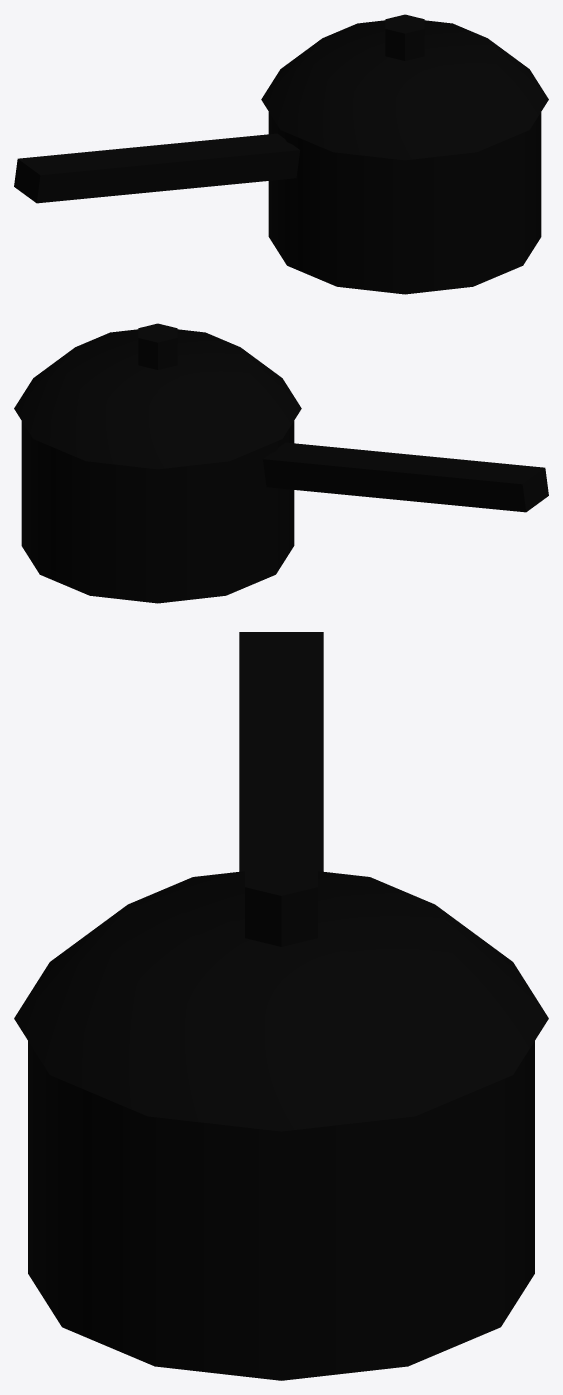
Rendered from SM_saucepan_copper.fbx.
3 renders of one model, top to bottom at view 1: azimuth 30°, elevation 25°; view 2: azimuth 150°, elevation 25°; view 3: azimuth 270°, elevation 25°, orthographic. The views are drawn at different scales.
Parts seen in each view (by area): view 1: saucepan_copper, saucepan_copper_lid; view 2: saucepan_copper, saucepan_copper_lid; view 3: saucepan_copper, saucepan_copper_lid.
Boxes of the visible parts, x1,y1,x2,y2 form: saucepan_copper: (14, 112, 541, 294); saucepan_copper_lid: (261, 14, 548, 160); saucepan_copper: (21, 421, 548, 603); saucepan_copper_lid: (14, 323, 301, 469); saucepan_copper: (28, 632, 534, 1380); saucepan_copper_lid: (14, 860, 548, 1131).
Bounding box in the file's own units: 0.3844 × 0.155 × 0.19.
